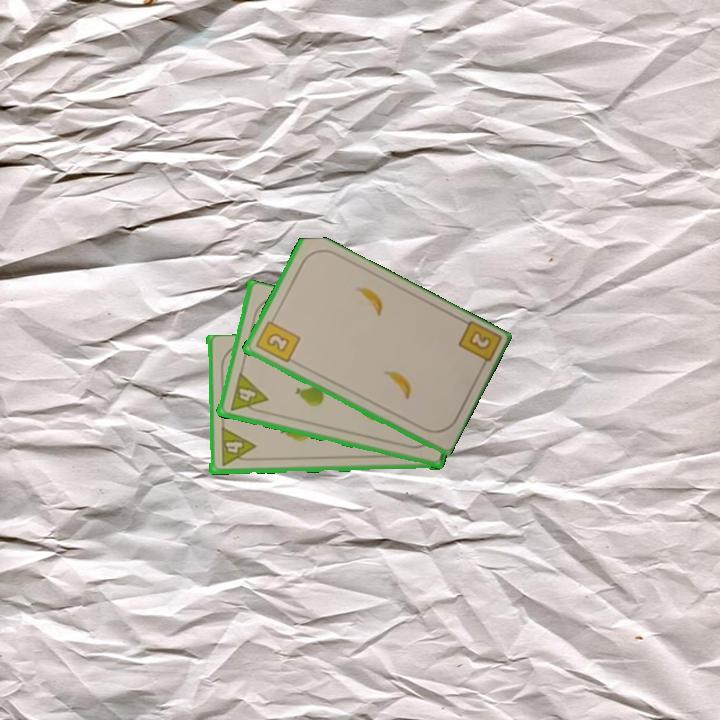2b: (454, 318, 502, 374), (252, 313, 302, 366)
4p: (226, 370, 270, 417), (217, 425, 257, 469)
